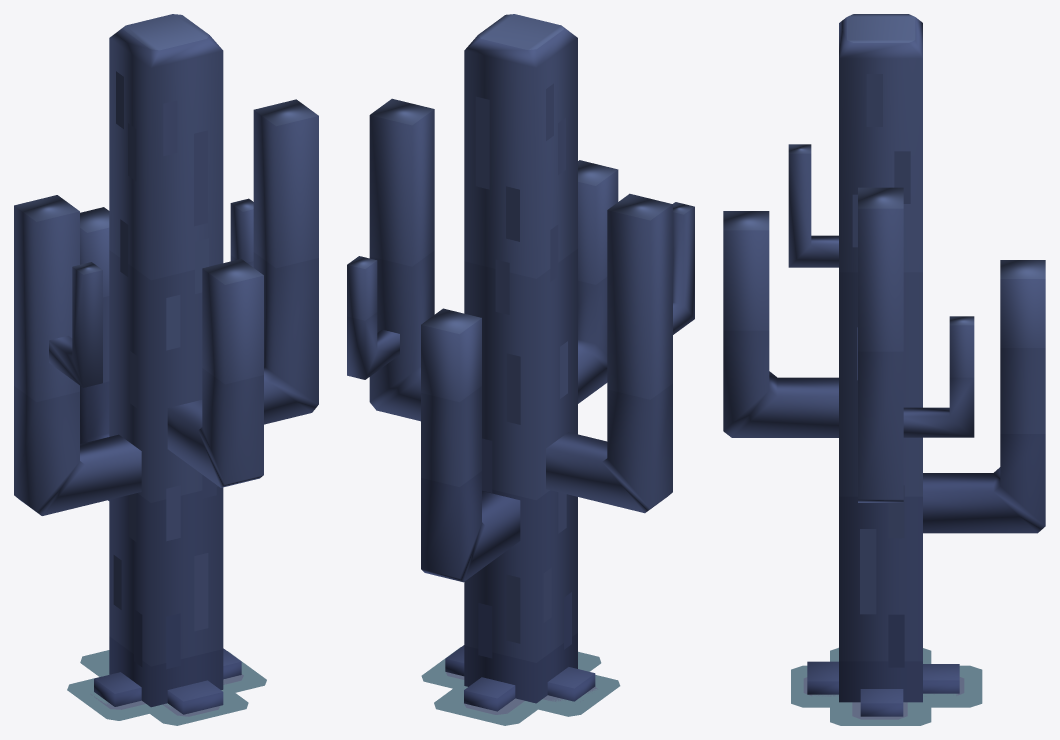
File: B_mountain2_tree00.fbx
3 views of the same model, side by side, from view 1: azimuth 30°, elevation 25°; view 2: azimuth 150°, elevation 25°; view 3: azimuth 270°, elevation 25° (orthographic).
Visible parts, largest first — view 1: model 1, model; view 2: model 1, model; view 3: model 1, model.
Boxes of the visible parts, left/top/right/bottom form: model 1: left=14, top=14, right=318, bottom=725; model: left=67, top=650, right=266, bottom=725; model 1: left=347, top=14, right=694, bottom=724; model: left=421, top=647, right=620, bottom=725; model 1: left=723, top=14, right=1045, bottom=725; model: left=791, top=647, right=982, bottom=725.
Size of the model in its own units: 2.99 by 6.6 by 2.93.
